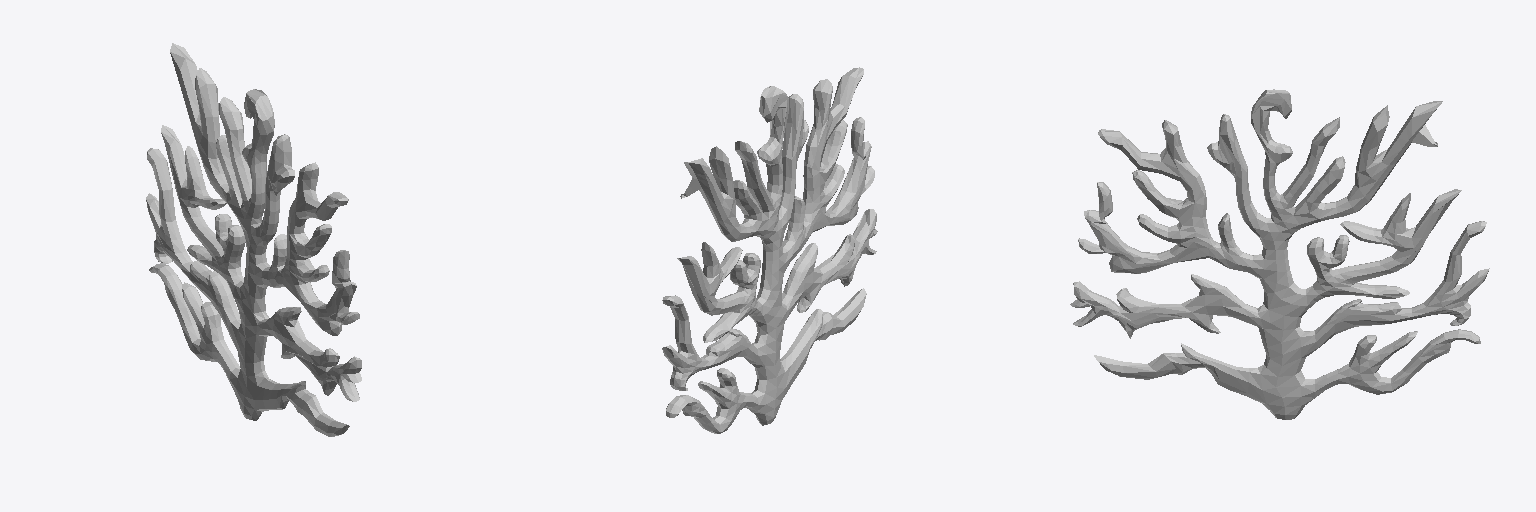
File: coral lp.obj
3 views of the same model, side by side, from view 1: azimuth 30°, elevation 25°; view 2: azimuth 150°, elevation 25°; view 3: azimuth 270°, elevation 25° (orthographic).
Parts seen in each view (by area): view 1: Plane_Plane.001; view 2: Plane_Plane.001; view 3: Plane_Plane.001.
Part boxes in pixels (x1,y1,x2,y2): Plane_Plane.001: (146, 43, 361, 436); Plane_Plane.001: (662, 67, 877, 433); Plane_Plane.001: (1070, 89, 1489, 419).
Bounding box in the file's own units: 0.1148 × 1.7 × 1.95.